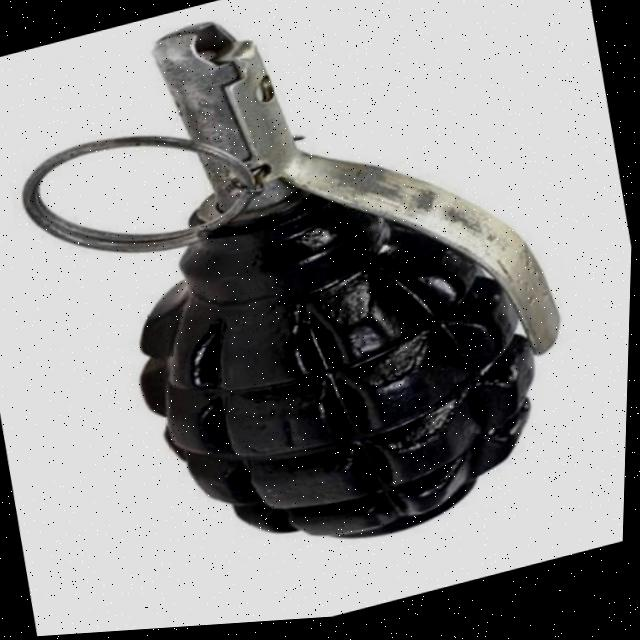grenade: (0, 0, 628, 638)
